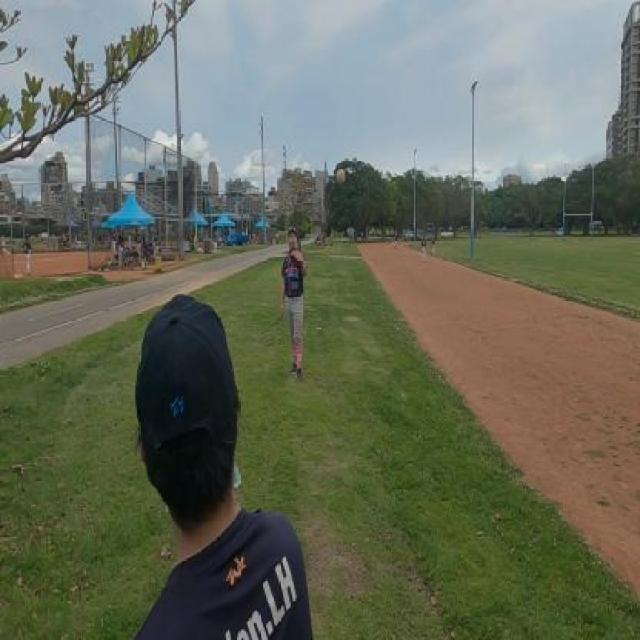baseball: (336, 168, 346, 186)
